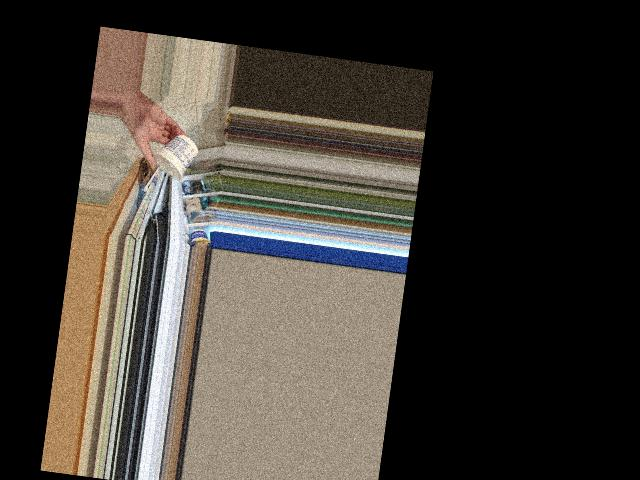cotage: (146, 129, 195, 179)
